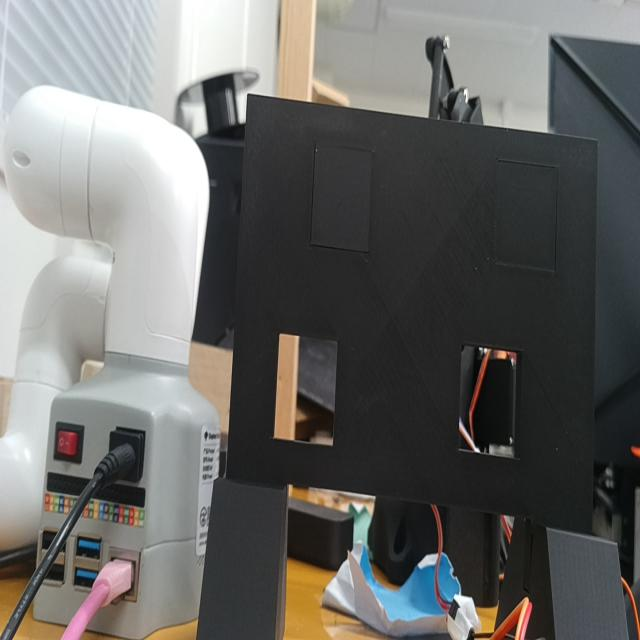Obstacle: (273, 332, 339, 446), (459, 344, 516, 456)
Wall: (226, 93, 595, 533)
